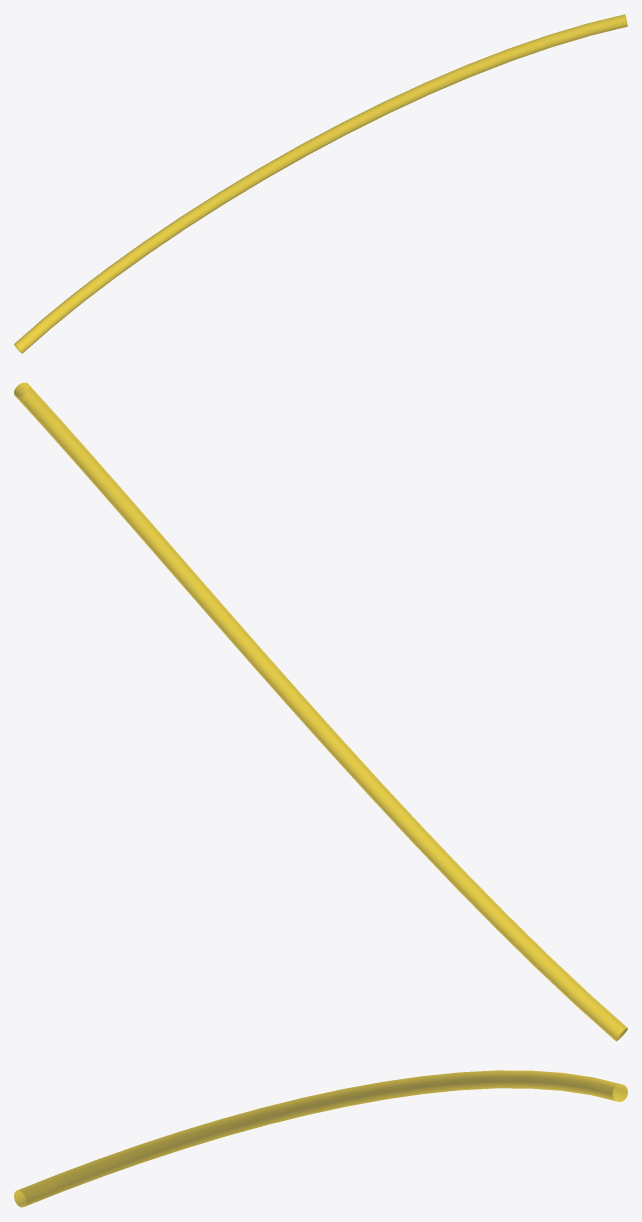
The model's file is Event_15818458_track_37.fbx.
The picture shows the model from 3 angles, top to bottom: view 1: azimuth 30°, elevation 25°; view 2: azimuth 150°, elevation 25°; view 3: azimuth 330°, elevation 25°; orthographic projection. The views are drawn at different scales.
Parts seen in each view (by area): view 1: Model; view 2: Model; view 3: Model.
Boxes of the visible parts, bbox=[...] form: Model: bbox=[14, 14, 627, 353]; Model: bbox=[14, 382, 627, 1041]; Model: bbox=[14, 1070, 627, 1207].
Bounding box in the file's own units: 1.89 × 0.9579 × 0.5987.
